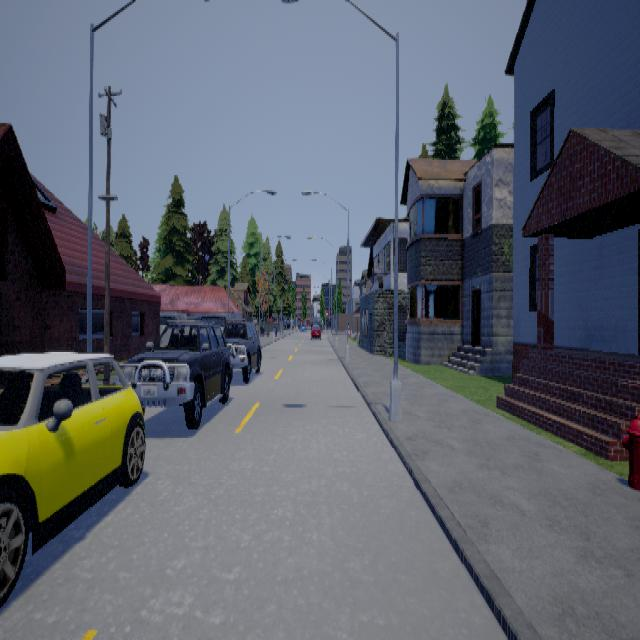vehicle: (0, 344, 147, 606), (124, 316, 232, 428), (222, 315, 263, 382)
